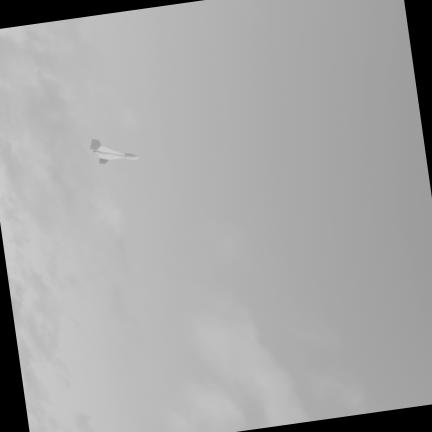Shahed: (89, 139, 136, 164)
